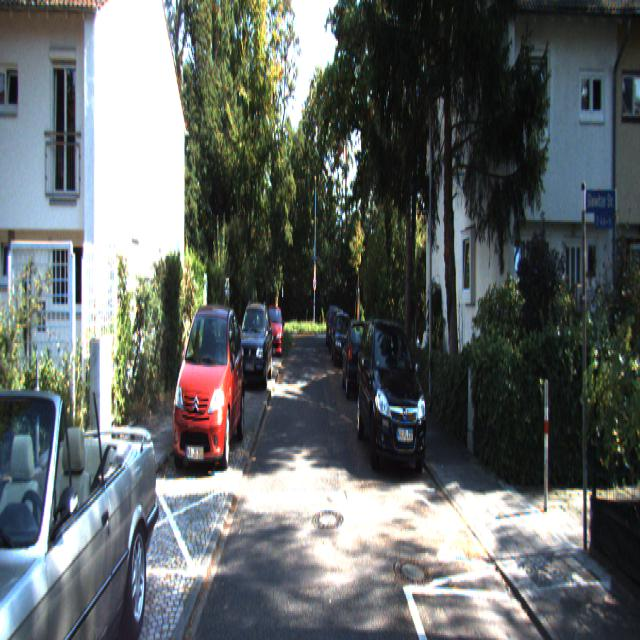Car: (0, 353, 167, 639), (355, 312, 430, 480), (173, 301, 244, 472), (235, 300, 272, 392), (342, 317, 378, 400), (332, 310, 354, 368), (263, 305, 284, 361)
